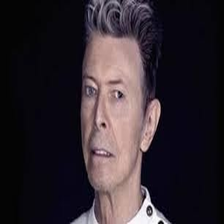no_mask: (80, 35, 147, 183)
